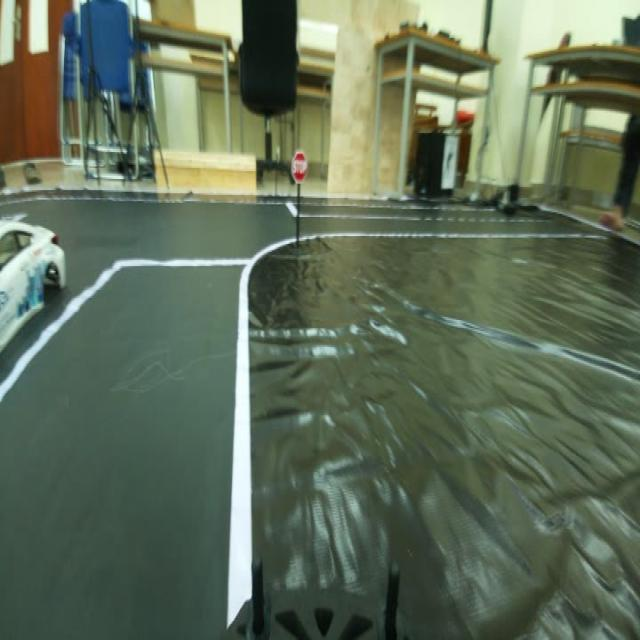stop: (286, 145, 314, 186)
